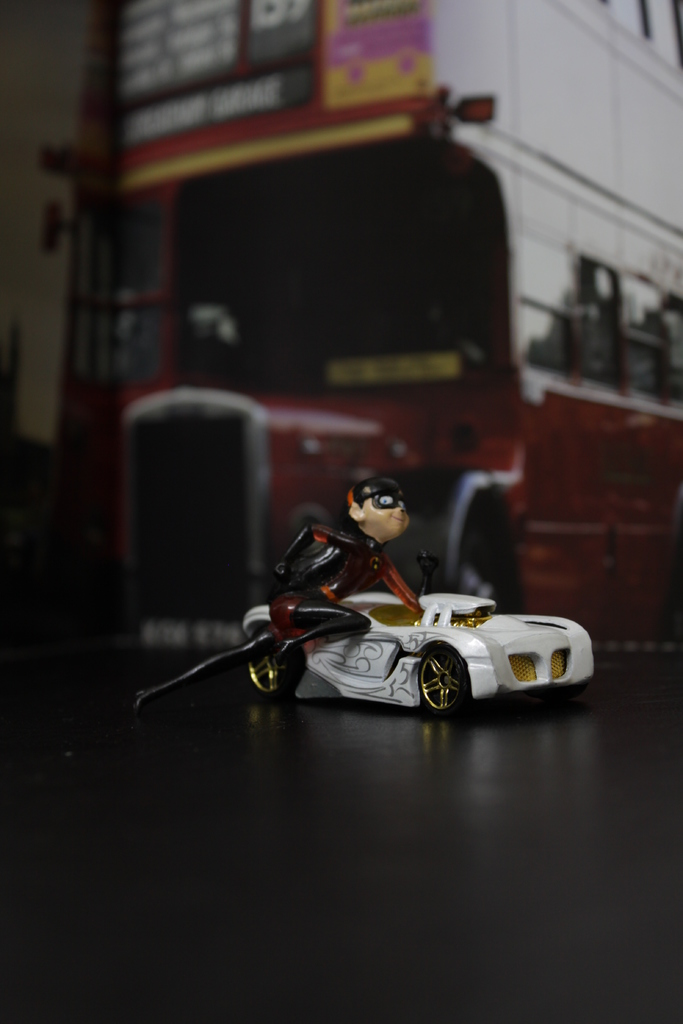Car: (245, 592, 593, 709)
